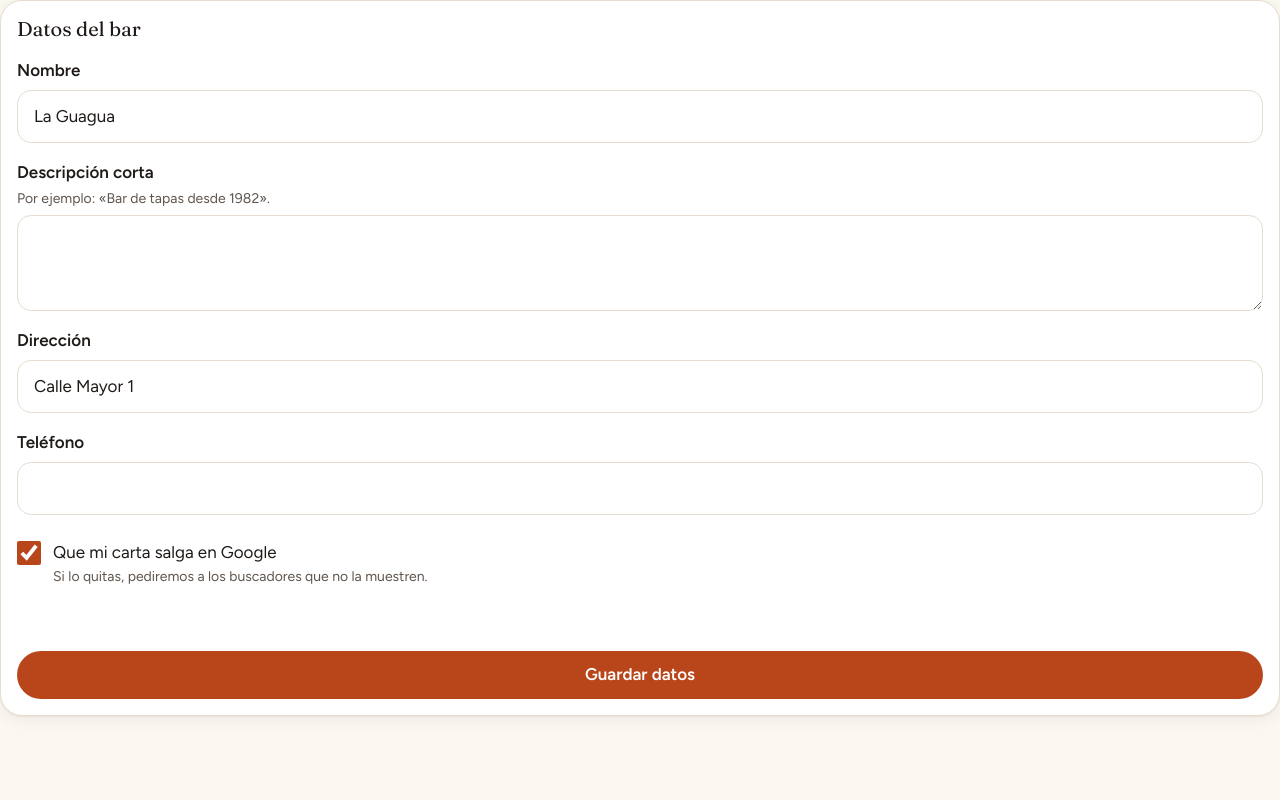
Test: FormularioDatosLocal › envía los campos y enseña «Guardado.»
Replace the text in the field labelled "Nombre" with "La Guagua 2" at x=640, y=117, box x1=17 y1=90 x2=1263 y2=143
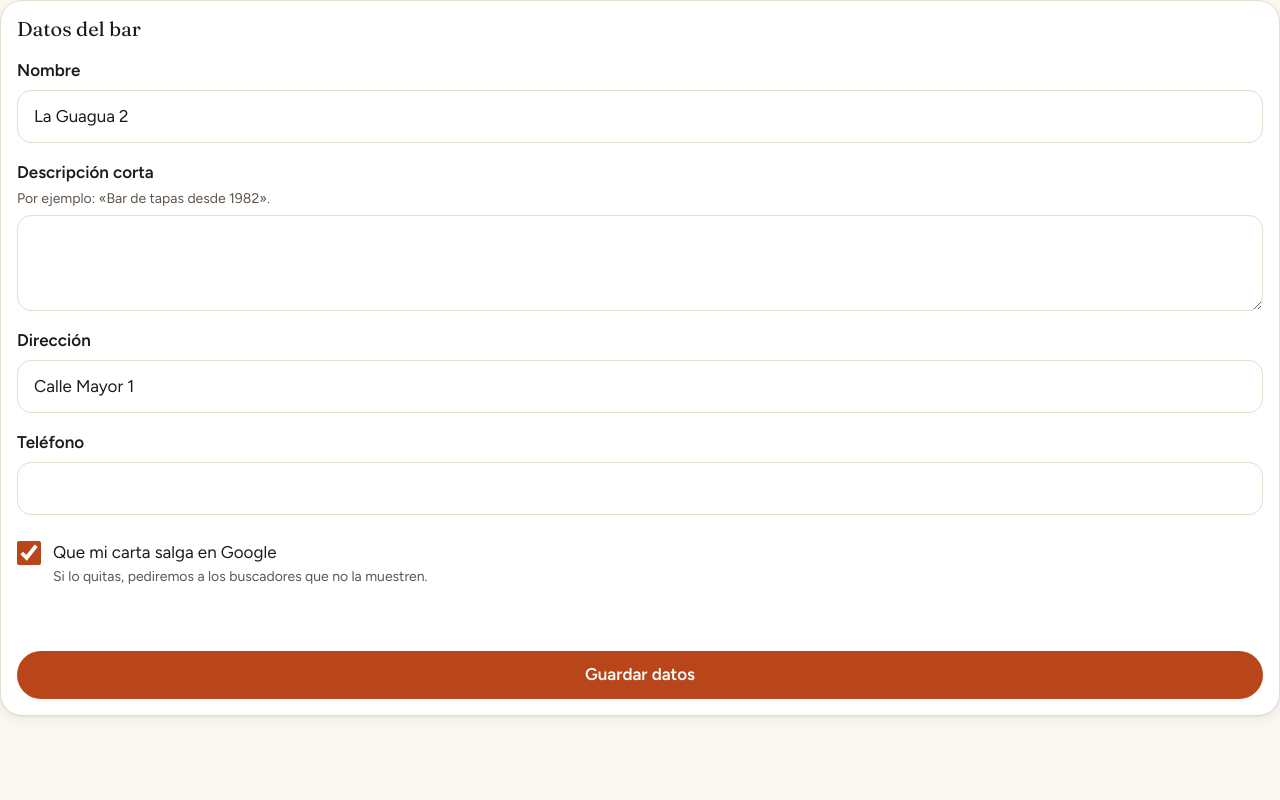
Click the checkbox labelled "Que mi carta salga en Google" at x=29, y=553, box x1=17 y1=541 x2=41 y2=565
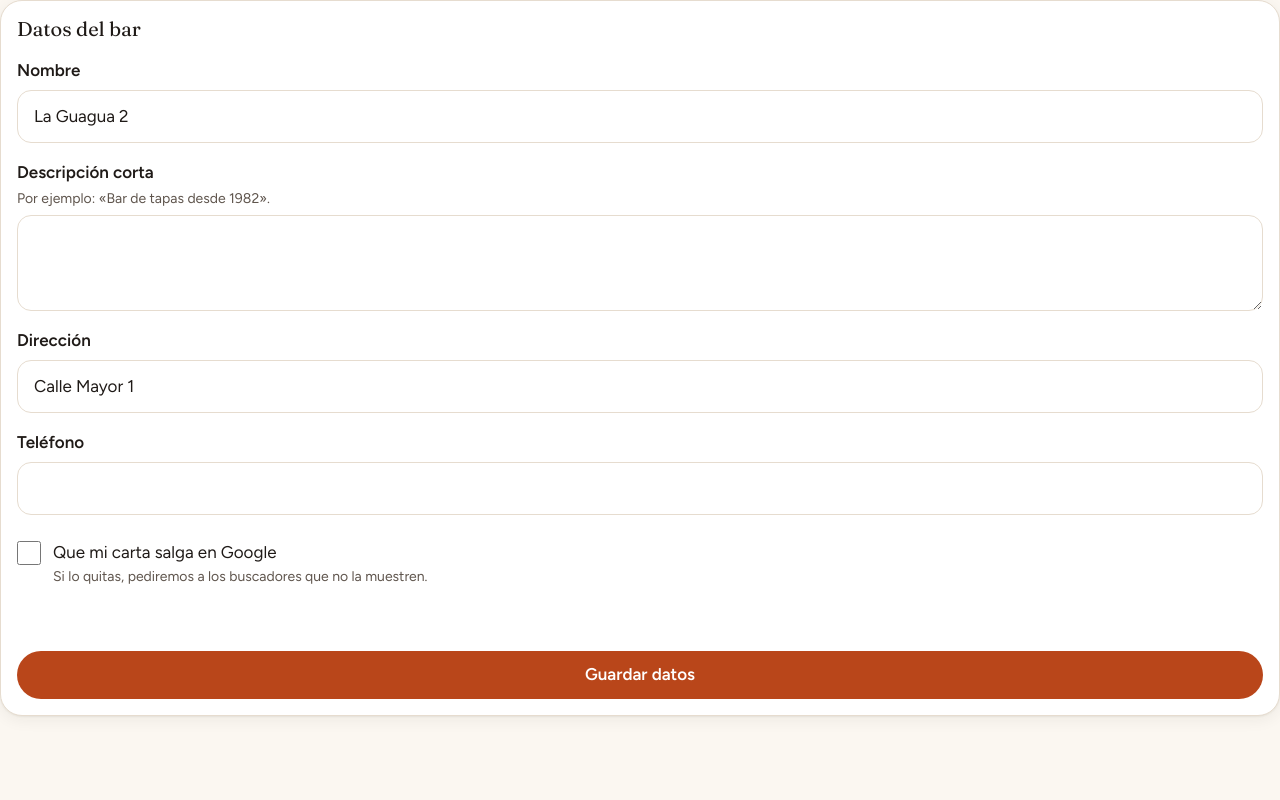
Click the button "Guardar datos" at x=640, y=674, box x1=17 y1=650 x2=1263 y2=698
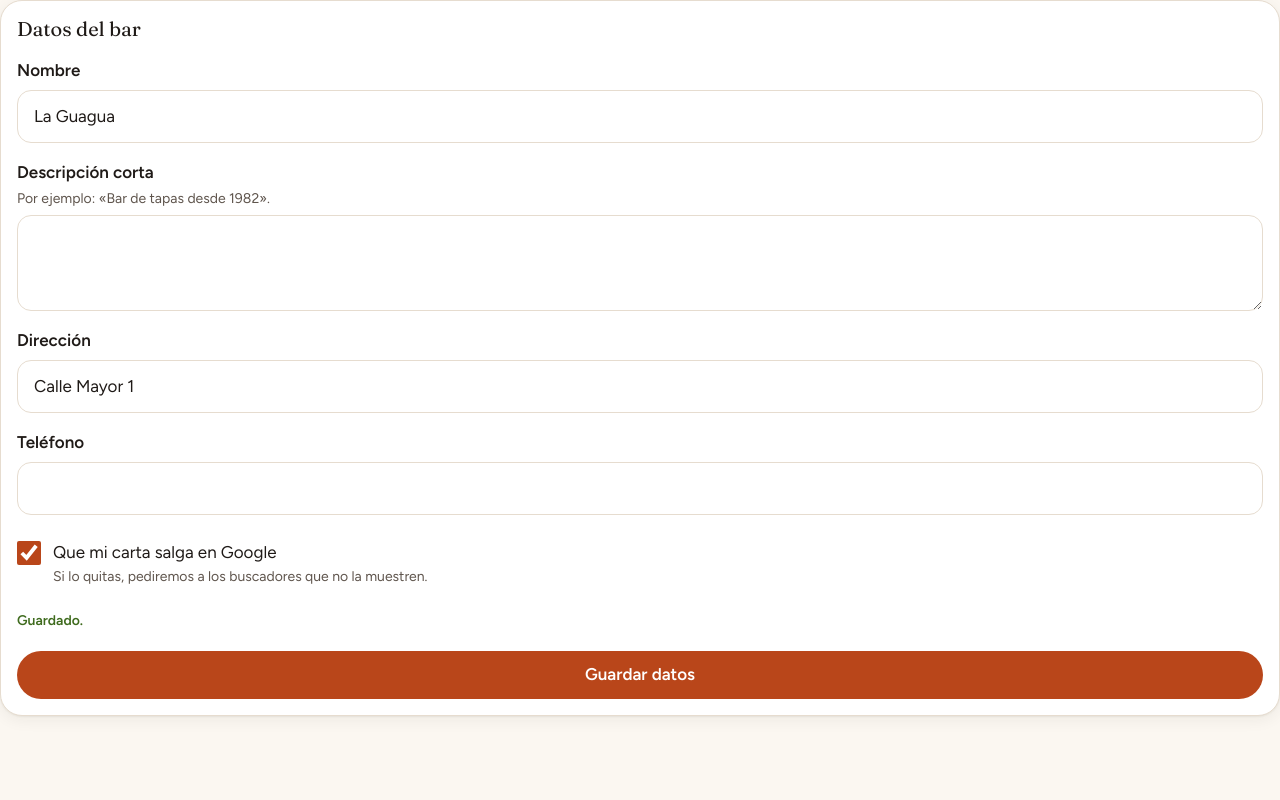
Check: the text "Guardado." is shown, box x1=17 y1=612 x2=83 y2=628
